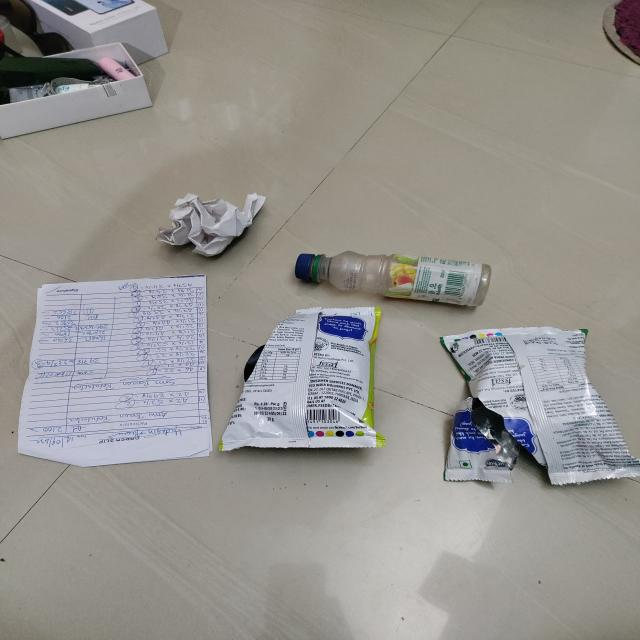paper: (15, 247, 226, 476), (13, 0, 175, 133), (132, 196, 290, 263)
plastic: (416, 322, 640, 515), (249, 296, 397, 480), (279, 245, 533, 312)
